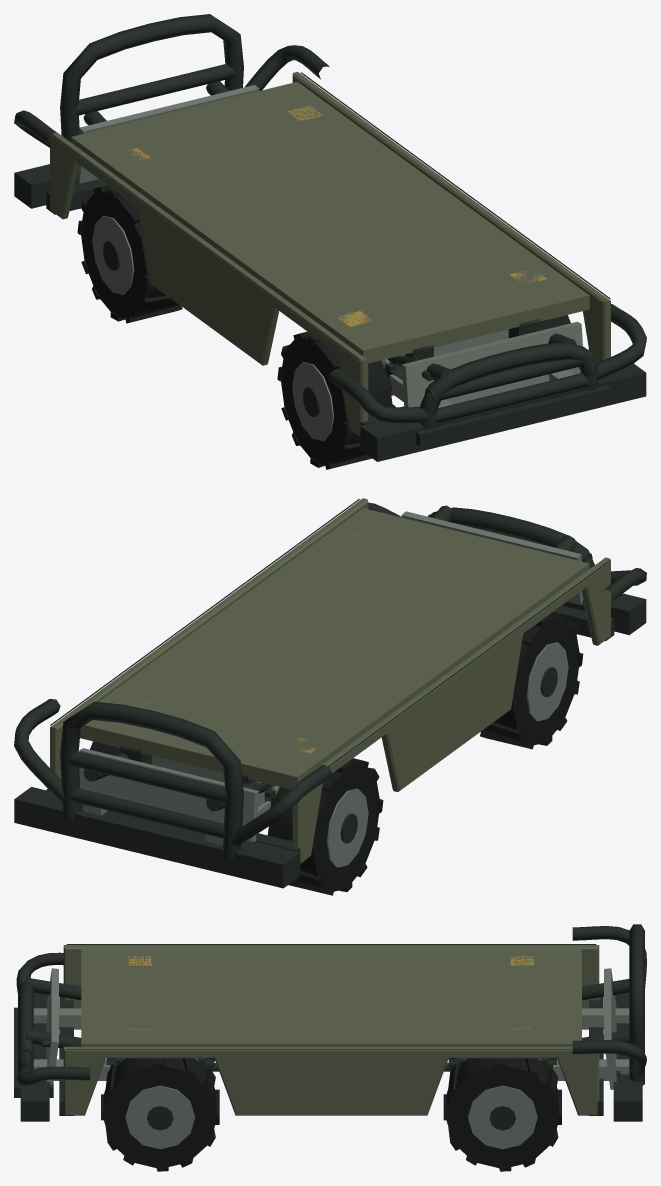
3 renders of one model, top to bottom at view 1: azimuth 30°, elevation 25°; view 2: azimuth 150°, elevation 25°; view 3: azimuth 270°, elevation 25°, orthographic. The views are drawn at different scales.
Parts seen in each view (by area): view 1: C01_surface_02, C01_surface_00, C01_surface_01, C01_surface_04, C01_surface_07, C01_surface_05, C01_surface_08, C01_surface_03; view 2: C01_surface_02, C01_surface_00, C01_surface_01, C01_surface_07, C01_surface_04, C01_surface_05, C01_surface_08; view 3: C01_surface_02, C01_surface_00, C01_surface_10, C01_surface_13, C01_surface_01, C01_surface_11, C01_surface_14, C01_surface_12, C01_surface_15, C01_surface_03.
Part boxes in pixels (box(x1,y1,x2,y2)): C01_surface_02: box(50, 71, 610, 436); C01_surface_00: box(14, 14, 646, 461); C01_surface_01: box(77, 85, 582, 407); C01_surface_04: box(277, 331, 395, 469); C01_surface_07: box(77, 185, 182, 323); C01_surface_05: box(292, 362, 334, 441); C01_surface_08: box(92, 215, 134, 294); C01_surface_03: box(126, 105, 546, 326); C01_surface_02: box(50, 498, 610, 863); C01_surface_00: box(14, 499, 646, 888); C01_surface_01: box(79, 511, 583, 845); C01_surface_07: box(267, 758, 383, 895); C01_surface_04: box(480, 612, 583, 749); C01_surface_05: box(526, 642, 568, 721); C01_surface_08: box(326, 788, 368, 867); C01_surface_02: box(63, 945, 599, 1115); C01_surface_00: box(14, 924, 646, 1121); C01_surface_10: box(101, 1058, 219, 1171); C01_surface_13: box(443, 1058, 561, 1171); C01_surface_01: box(33, 968, 629, 1089); C01_surface_11: box(125, 1085, 194, 1149); C01_surface_14: box(468, 1085, 537, 1149); C01_surface_12: box(147, 1106, 173, 1130); C01_surface_15: box(489, 1106, 515, 1130); C01_surface_03: box(128, 955, 534, 1029).
Bounding box in the file's own units: 2.15 × 1.48 × 4.8.
